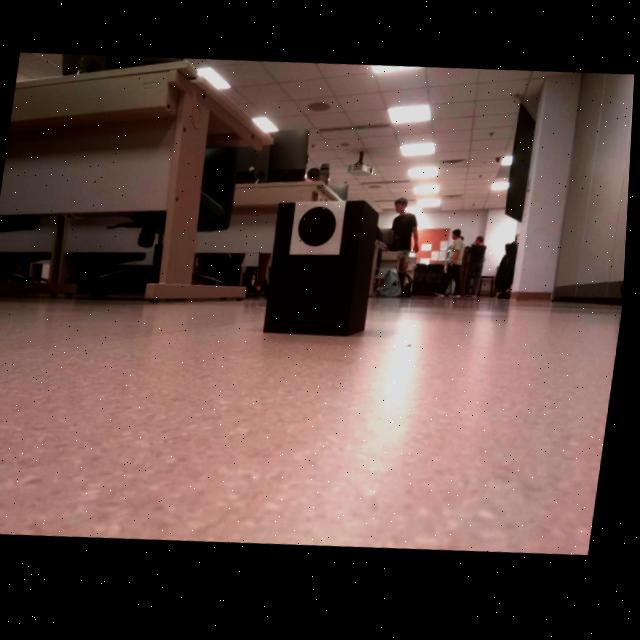CIRCLE: (300, 209, 339, 251)
